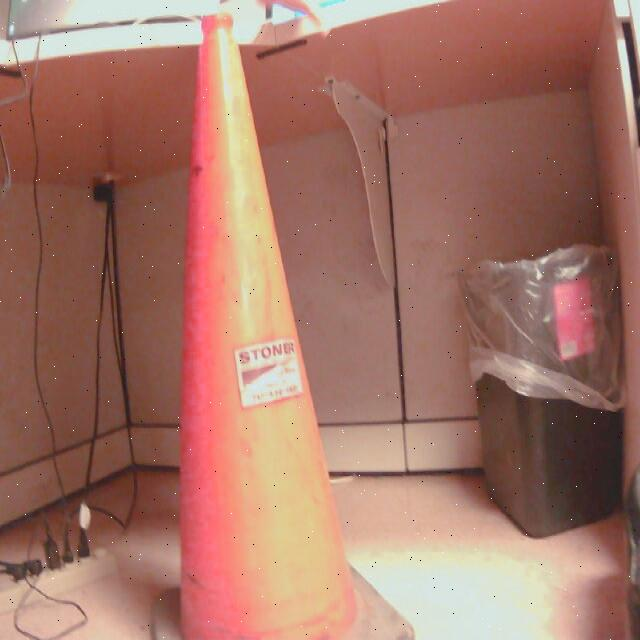traffic cone: (154, 16, 417, 640)
